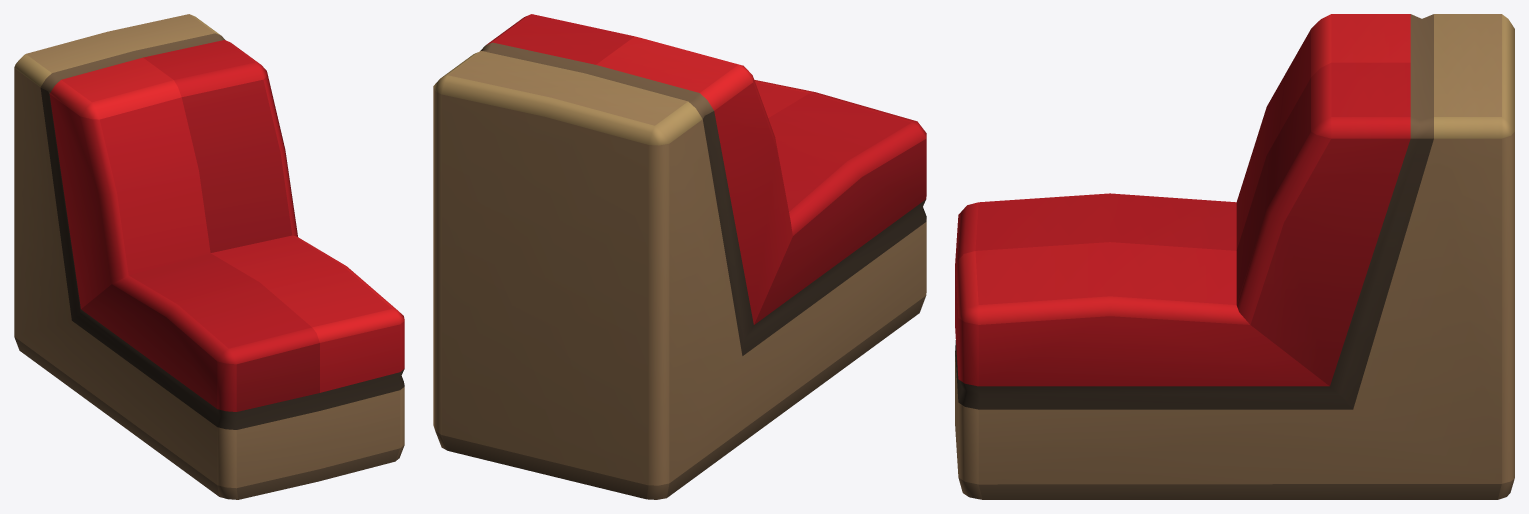
Rendered from seating_outdoor1_1_half_LOD_setup.fbx.
3 renders of one model, left to right at view 1: azimuth 30°, elevation 25°; view 2: azimuth 150°, elevation 25°; view 3: azimuth 270°, elevation 25°, orthographic. The views are drawn at different scales.
Parts seen in each view (by area): view 1: seating_outdoor1_1_half_LOD0; view 2: seating_outdoor1_1_half_LOD0; view 3: seating_outdoor1_1_half_LOD0.
Part boxes in pixels (x1,y1,x2,y2): seating_outdoor1_1_half_LOD0: [14, 14, 404, 499]; seating_outdoor1_1_half_LOD0: [433, 14, 926, 499]; seating_outdoor1_1_half_LOD0: [955, 14, 1514, 499].
Size of what is drawn, in the model's own units: 49.87 by 75.57 by 101.
